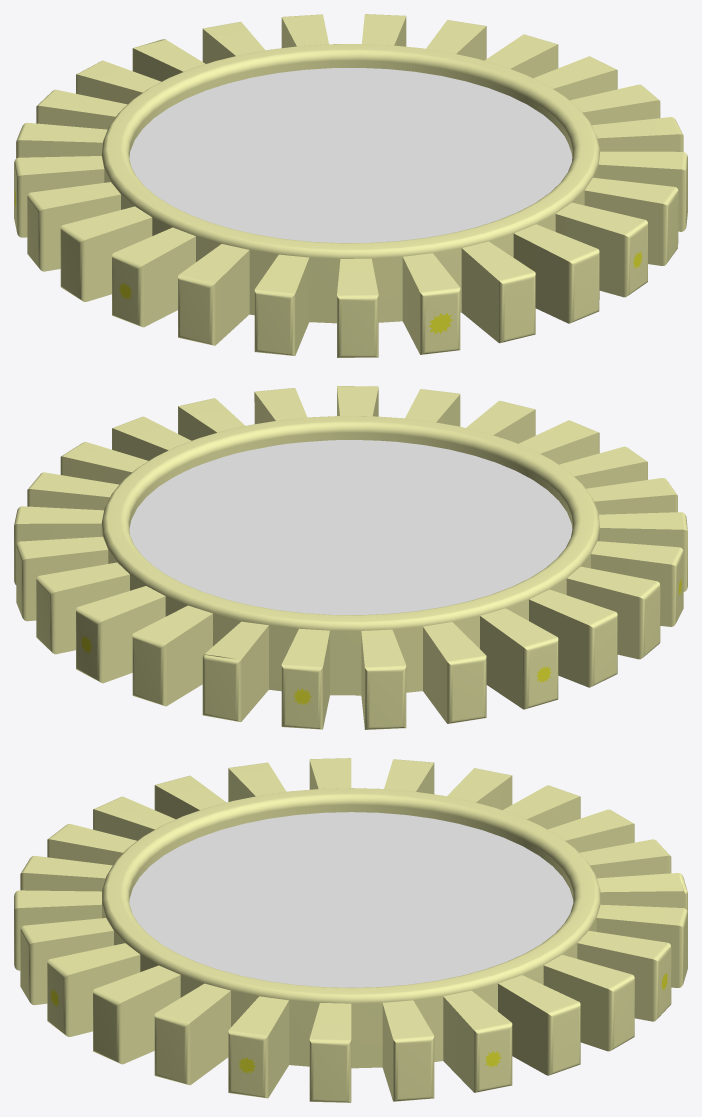
Rendered from sun lamp.fbx.
The picture shows the model from 3 angles, top to bottom: view 1: azimuth 30°, elevation 25°; view 2: azimuth 150°, elevation 25°; view 3: azimuth 270°, elevation 25°; orthographic projection.
Parts seen in each view (by area): view 1: pCylinder7, pCylinder8; view 2: pCylinder7, pCylinder8; view 3: pCylinder7, pCylinder8.
Part boxes in pixels (<box>): pCylinder7: <box>14,14,687,357</box>; pCylinder8: <box>129,68,572,242</box>; pCylinder7: <box>14,386,687,729</box>; pCylinder8: <box>129,440,572,614</box>; pCylinder7: <box>14,758,687,1102</box>; pCylinder8: <box>129,812,573,987</box>.
Bounding box in the file's own units: 4.64 × 0.5438 × 4.63.
1 material, 1 textured.
